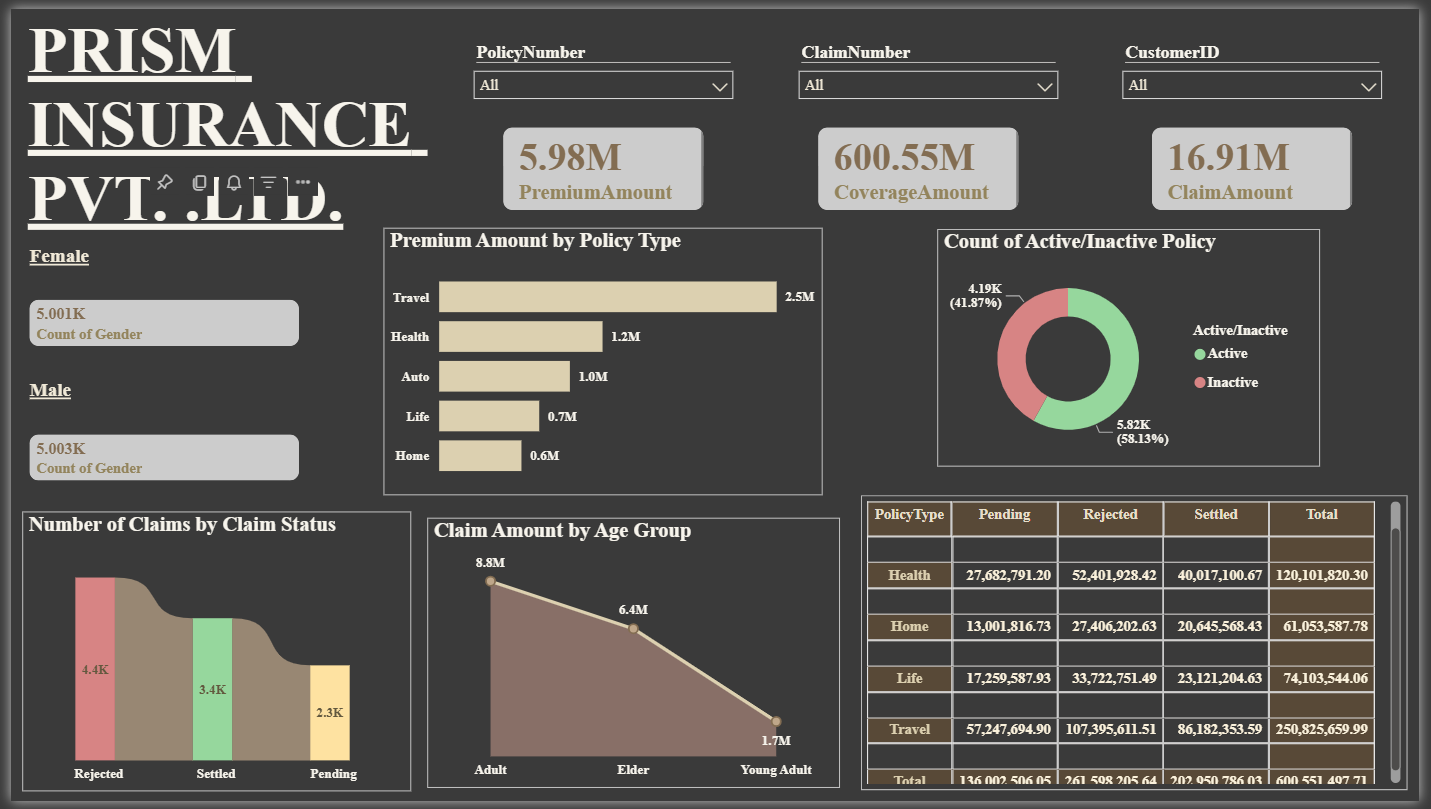

The page's visual inventory and layout, read from the dashboard file:
{"tool":"powerbi","page":{"name":"Page 1","canvas":[1280,720],"ordinal":0},"visuals":[{"type":"slicer","fields":{"Values":["InsuranceData.PolicyNumber"]},"box":[410.3,25,256.6,85.1],"z":0},{"type":"slicer","fields":{"Values":["InsuranceData.CustomerID"]},"box":[1000.3,25,256.6,85.1],"z":1000},{"type":"slicer","fields":{"Values":["InsuranceData.ClaimNumber"]},"box":[705.3,25,256.6,85.1],"z":2000},{"type":"textbox","box":[10.5,0,388.4,219.8],"z":3000},{"type":"cardVisual","fields":{"Data":["Sum(InsuranceData.PremiumAmount)"]},"box":[430.2,90.7,216.3,109.3],"z":4000},{"type":"cardVisual","fields":{"Data":["CountNonNull(InsuranceData.Gender)"],"Rows":["InsuranceData.Gender"]},"box":[0,172.1,279.1,294.2],"z":5000},{"type":"ribbonChart","title":"Number of Claims by Claim Status ","fields":{"Category":["InsuranceData.ClaimStatus"],"Y":["CountNonNull(InsuranceData.ClaimStatus)"]},"box":[10.5,457,353.5,254.7],"z":6000},{"type":"barChart","title":" Premium Amount by Policy Type","fields":{"Category":["InsuranceData.PolicyType"],"Y":["Sum(InsuranceData.PremiumAmount)"]},"box":[338.4,198.8,398.8,243],"z":7000},{"type":"cardVisual","fields":{"Data":["Sum(InsuranceData.CoverageAmount)"]},"box":[717.4,90.7,216.3,109.3],"z":8000},{"type":"cardVisual","fields":{"Data":["Sum(InsuranceData.ClaimAmount)"]},"box":[1020.9,90.7,216.3,109.3],"z":9000},{"type":"lineChart","title":" Claim Amount by Age Group","fields":{"Category":["InsuranceData.Age Group"],"Y":["Sum(InsuranceData.ClaimAmount)"]},"box":[377.9,462.8,375.6,245.3],"z":10000},{"type":"donutChart","title":"Count of Active/Inactive Policy ","fields":{"Category":["InsuranceData.Active/Inactive"],"Y":["CountNonNull(InsuranceData.Active/Inactive)"]},"box":[841.9,200,347.7,216.3],"z":11000},{"type":"pivotTable","fields":{"Values":["Sum(InsuranceData.CoverageAmount)"],"Rows":["InsuranceData.PolicyType"],"Columns":["InsuranceData.ClaimStatus"]},"box":[772.7,442.2,496.9,268],"z":12000}]}

Visuals, with their boxes on the page's 1280x720 design canvas (x1, y1, x2, y2). These are canvas units, not pixel positions in the 1431x809 screenshot, which may show the page scaled, cropped or inside an application window:
slicer - InsuranceData.PolicyNumber: [410,25,667,110]
slicer - InsuranceData.CustomerID: [1000,25,1257,110]
slicer - InsuranceData.ClaimNumber: [705,25,962,110]
textbox: [10,0,399,220]
cardVisual - Sum(InsuranceData.PremiumAmount): [430,91,646,200]
cardVisual - CountNonNull(InsuranceData.Gender) x InsuranceData.Gender: [0,172,279,466]
"Number of Claims by Claim Status " ribbonChart: [10,457,364,712]
" Premium Amount by Policy Type" barChart: [338,199,737,442]
cardVisual - Sum(InsuranceData.CoverageAmount): [717,91,934,200]
cardVisual - Sum(InsuranceData.ClaimAmount): [1021,91,1237,200]
" Claim Amount by Age Group" lineChart: [378,463,754,708]
"Count of Active/Inactive Policy " donutChart: [842,200,1190,416]
pivotTable - Sum(InsuranceData.CoverageAmount) x InsuranceData.PolicyType: [773,442,1270,710]
